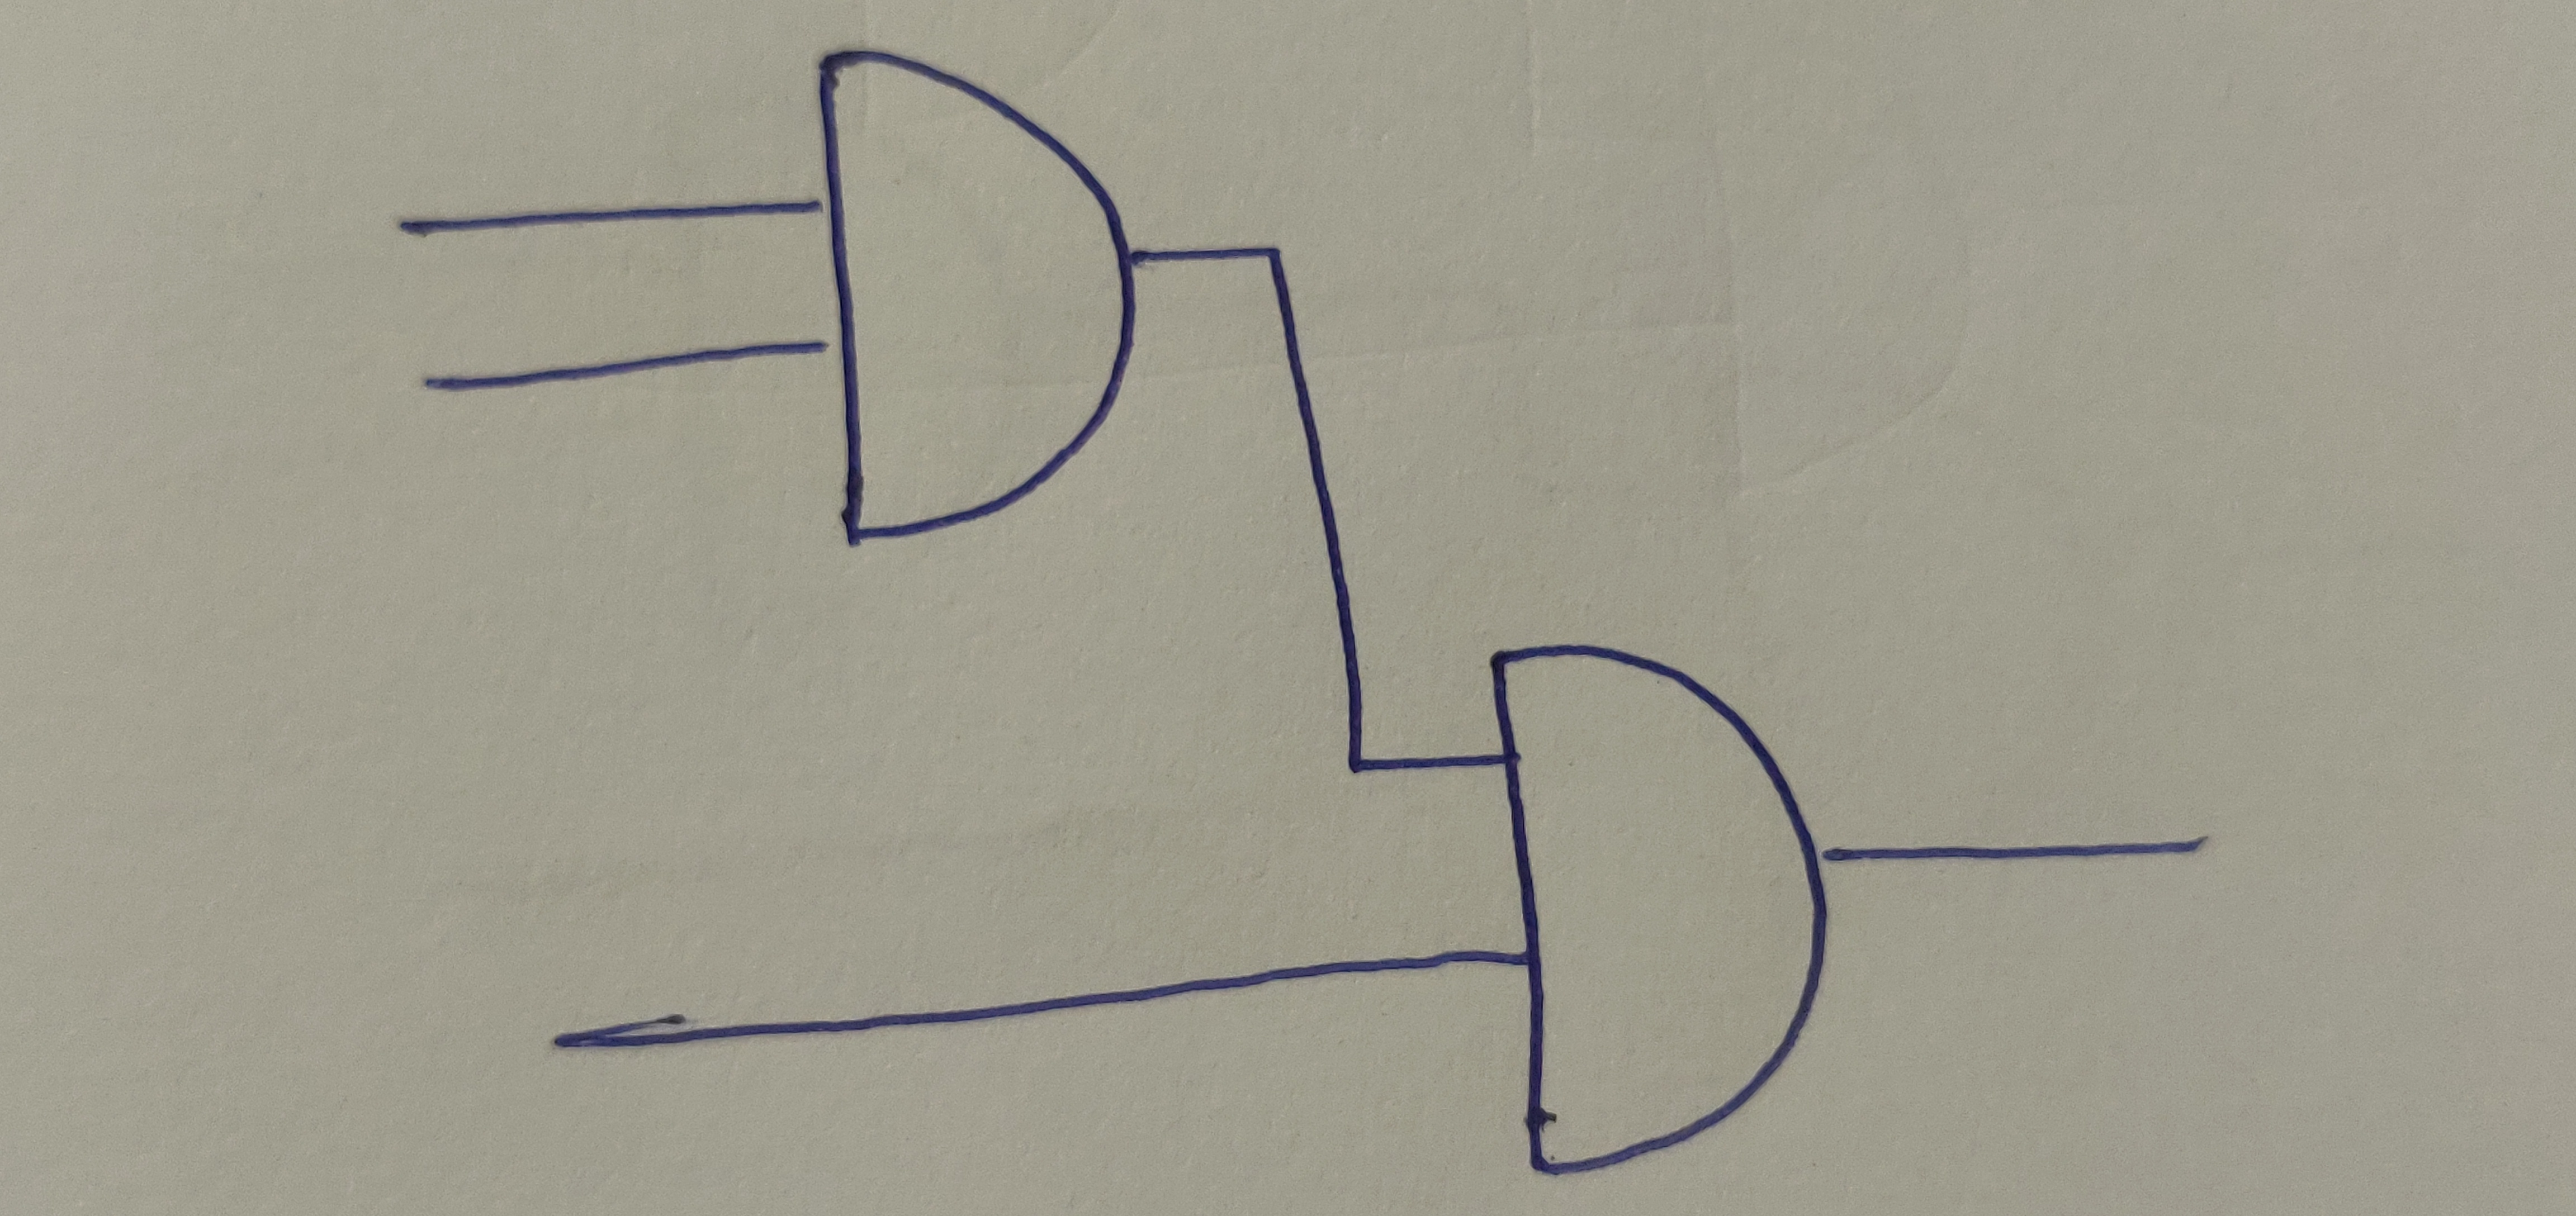and: (1482, 641, 1830, 1178), (813, 44, 1140, 547)
